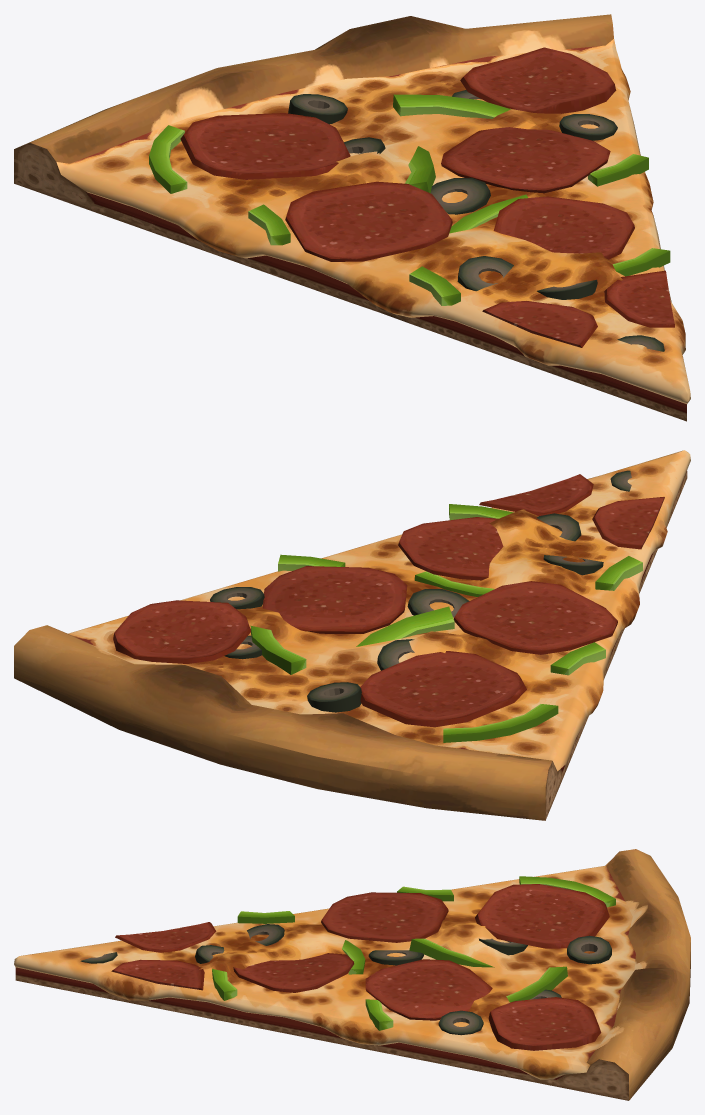
Rendered from pizza sup.glb.
The picture shows the model from 3 angles, top to bottom: view 1: azimuth 30°, elevation 25°; view 2: azimuth 150°, elevation 25°; view 3: azimuth 270°, elevation 25°; orthographic projection. The views are drawn at different scales.
Parts seen in each view (by area): view 1: pizza_supreme_slice_whole; view 2: pizza_supreme_slice_whole; view 3: pizza_supreme_slice_whole.
Boxes of the visible parts, x1=… form: pizza_supreme_slice_whole: x1=14, y1=14, x2=690, y2=421; pizza_supreme_slice_whole: x1=14, y1=450, x2=690, y2=820; pizza_supreme_slice_whole: x1=14, y1=849, x2=690, y2=1100.
Bounding box in the file's own units: 0.1765 × 0.0179 × 0.231.
Materials: 1 (1 with a texture image).
